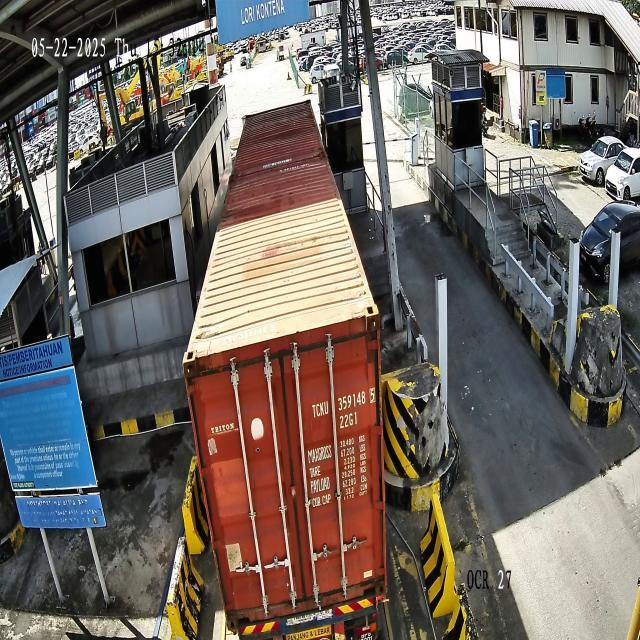ISO: (339, 412, 358, 431)
container_number: (310, 386, 376, 419)
